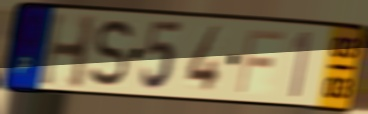1: (289, 29, 313, 100)
4: (182, 23, 223, 95)
5: (139, 20, 186, 94)
F: (234, 27, 287, 96)
H: (38, 10, 99, 92)
S: (87, 17, 135, 89)
